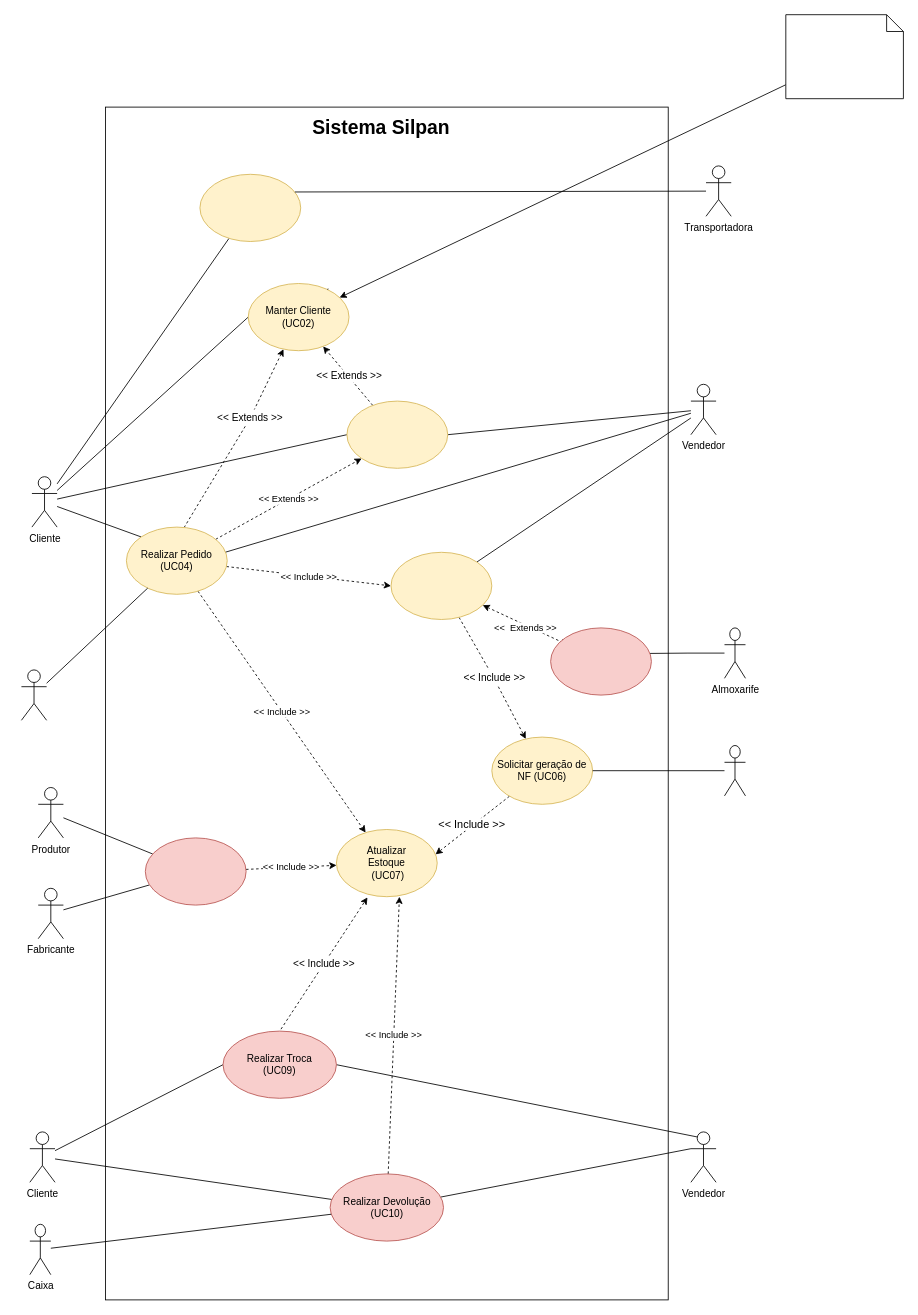
Some shapes in this 918 by 1315 pixel diagram are drawn without their labels. The centre of each missing label's shape, as x and y in pixels:
Antigo UC01: the point at 844,56
Consultar Estoque(UC05): the point at 441,585
Gerar Orçamento (UC03): the point at 397,434
Manter Produto (UC11): the point at 600,661
Mercado Pago: the point at 34,694
Rastrear Pedido (UC01): the point at 250,207
Requisição de Compra(UC08): the point at 195,871
SEBRAE: the point at 735,770
